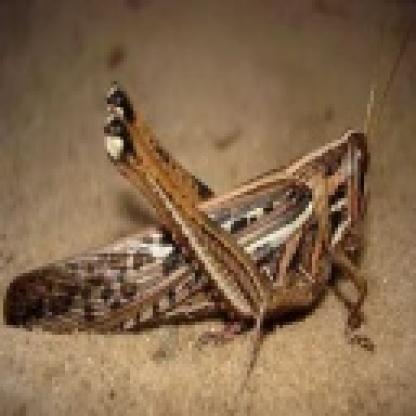grasshopper: (1, 69, 395, 328)
